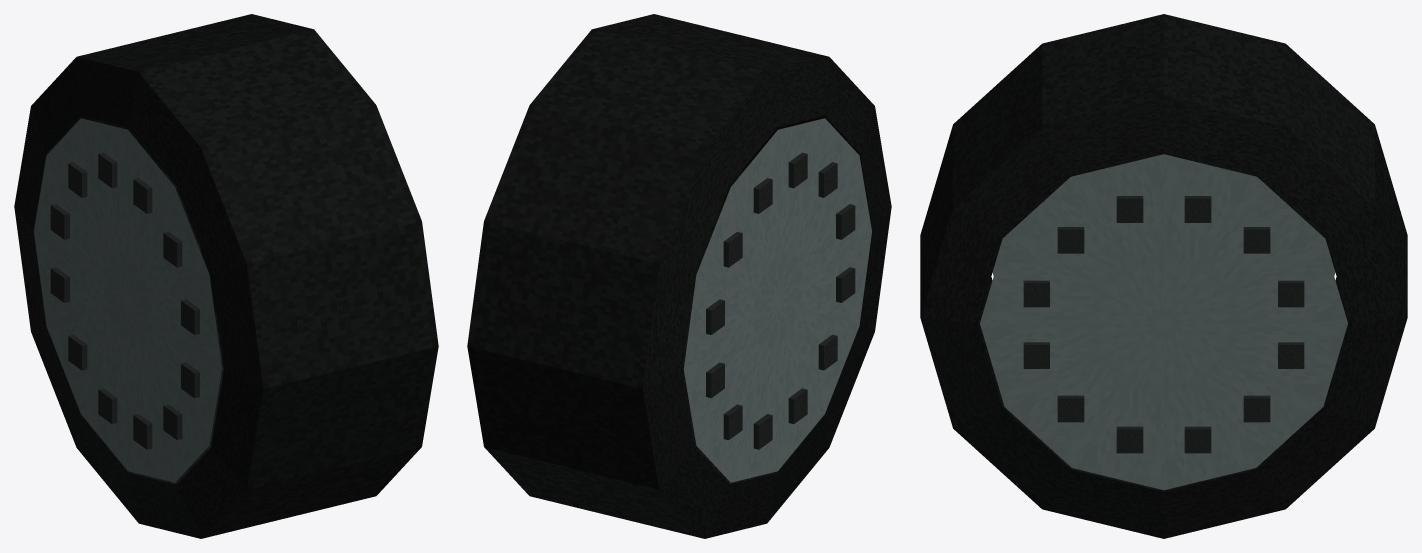
File: tyre.glb
The picture shows the model from 3 angles, left to right: view 1: azimuth 30°, elevation 25°; view 2: azimuth 150°, elevation 25°; view 3: azimuth 270°, elevation 25°; orthographic projection. The views are drawn at different scales.
Visible parts, largest first — view 1: tyre; view 2: tyre; view 3: tyre.
Part boxes in pixels (x1=…): tyre: x1=14, y1=14, x2=438, y2=538; tyre: x1=467, y1=14, x2=891, y2=538; tyre: x1=920, y1=14, x2=1407, y2=538.
Size of the model in its own units: 0.308 by 0.64 by 0.64.
Materials: 1 (1 with a texture image).
